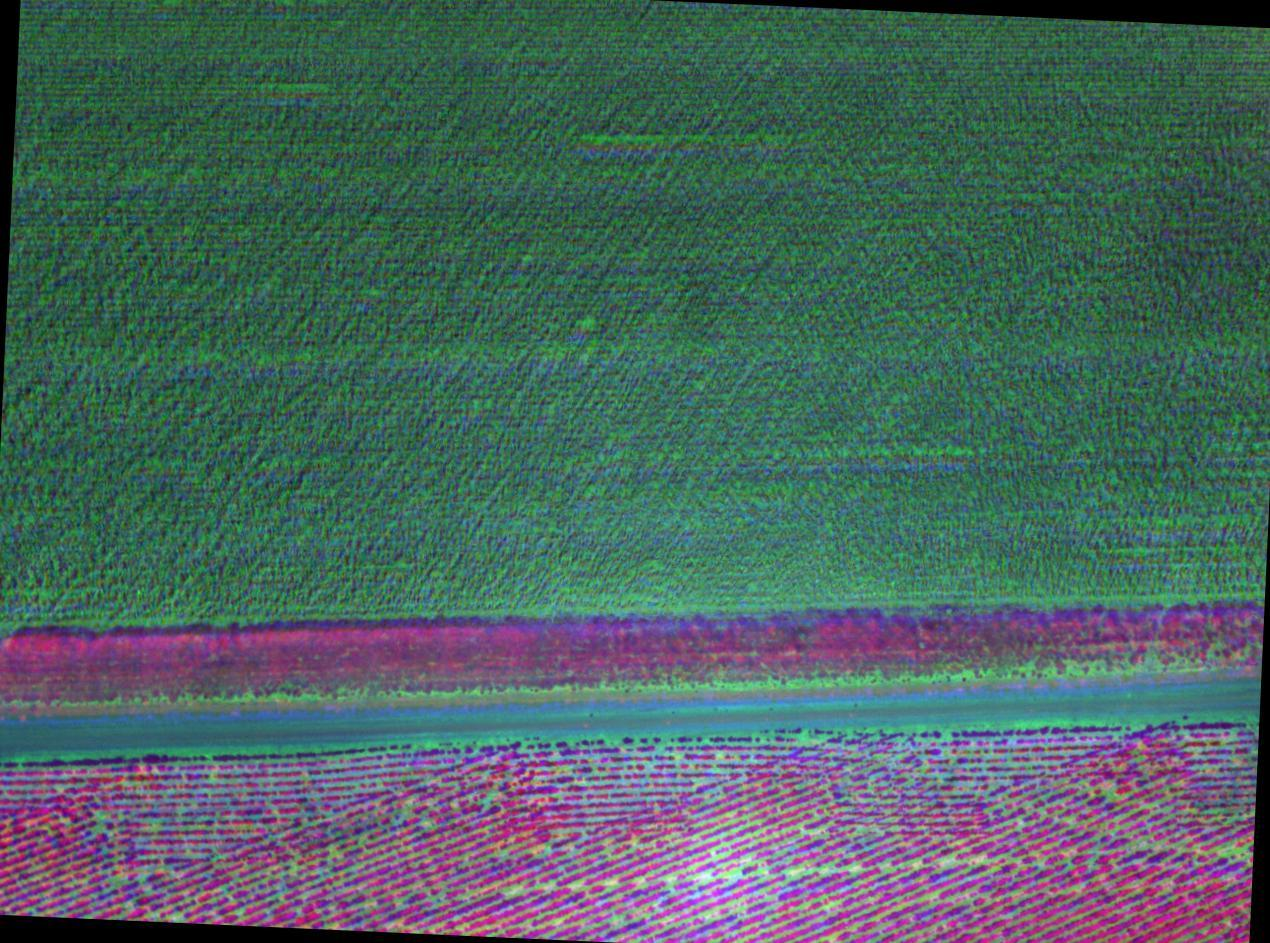dc: (943, 858, 953, 867), (788, 869, 797, 879), (1103, 785, 1112, 793), (730, 872, 740, 879), (819, 868, 830, 874), (1218, 849, 1227, 856), (701, 875, 710, 882), (1130, 844, 1139, 850), (1154, 845, 1162, 851)
